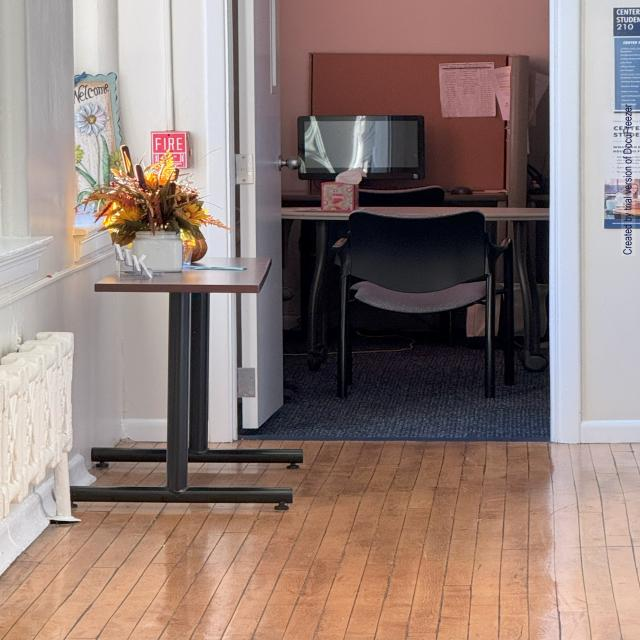Table: (98, 240, 323, 534)
chair: (330, 192, 520, 431)
